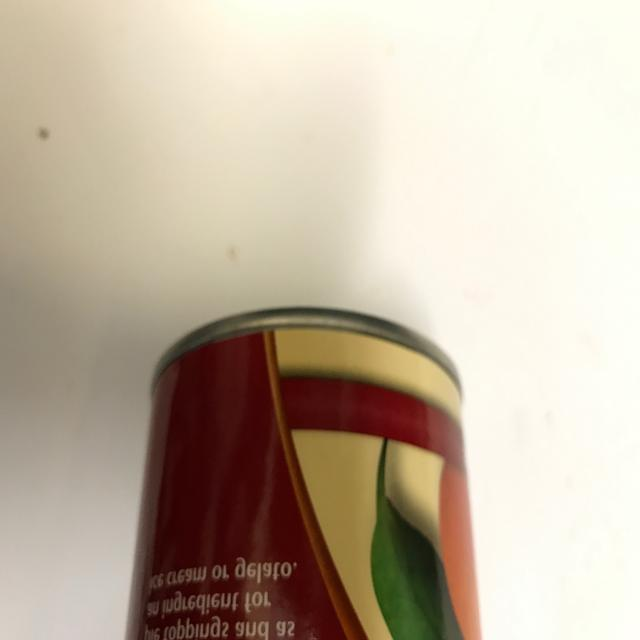metal: (122, 305, 486, 640)
